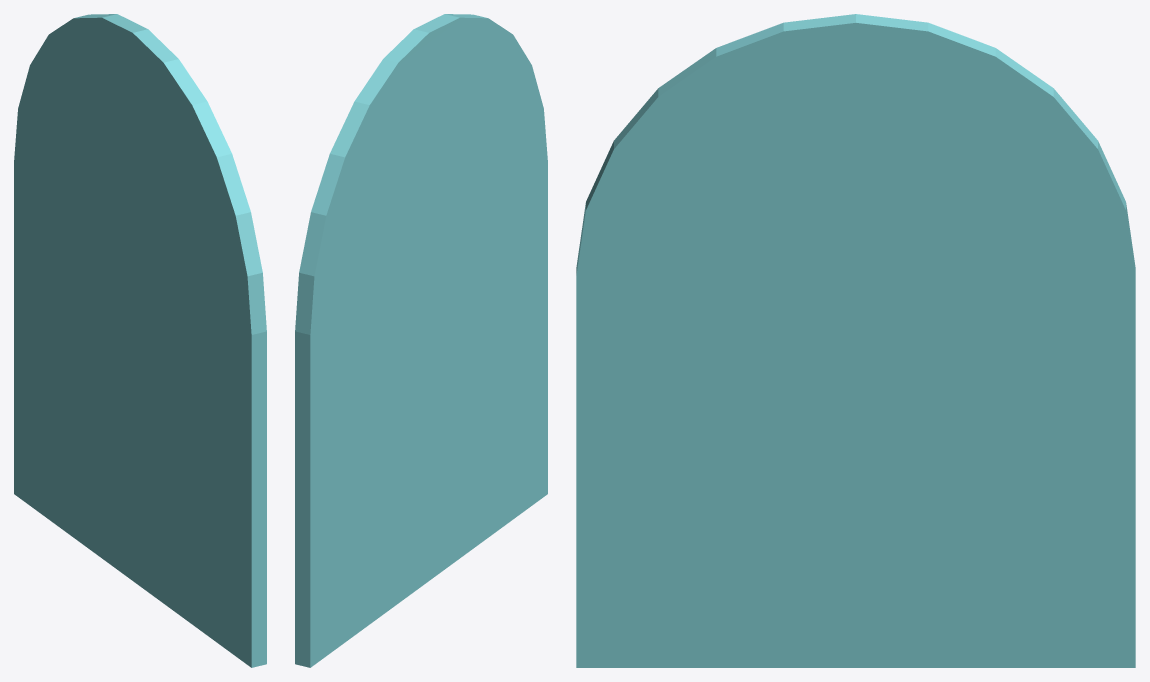
The model's file is windows_glass.fbx.
3 views of the same model, side by side, from view 1: azimuth 30°, elevation 25°; view 2: azimuth 150°, elevation 25°; view 3: azimuth 270°, elevation 25° (orthographic). The views are drawn at different scales.
Parts seen in each view (by area): view 1: bar_window_glass; view 2: bar_window_glass; view 3: bar_window_glass.
Part boxes in pixels (x1,y1,x2,y2): bar_window_glass: [14, 14, 266, 667]; bar_window_glass: [295, 14, 547, 667]; bar_window_glass: [576, 14, 1135, 667].
Bounding box in the file's own units: 21 × 717 × 563.
